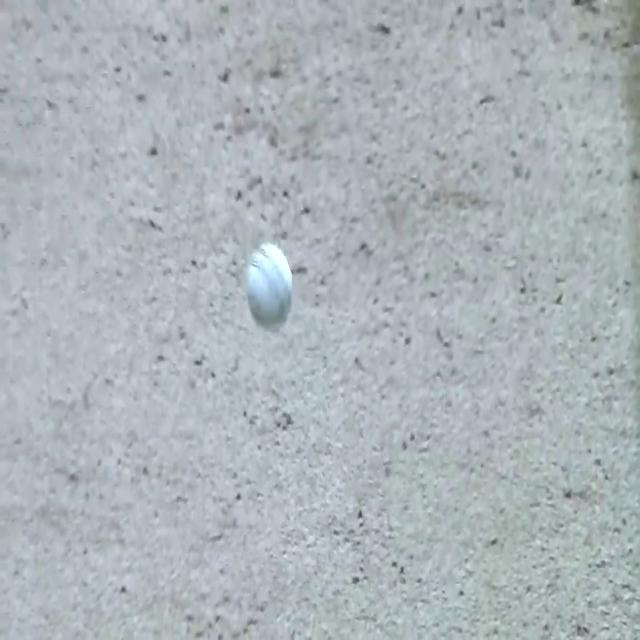ball: (242, 232, 298, 333)
